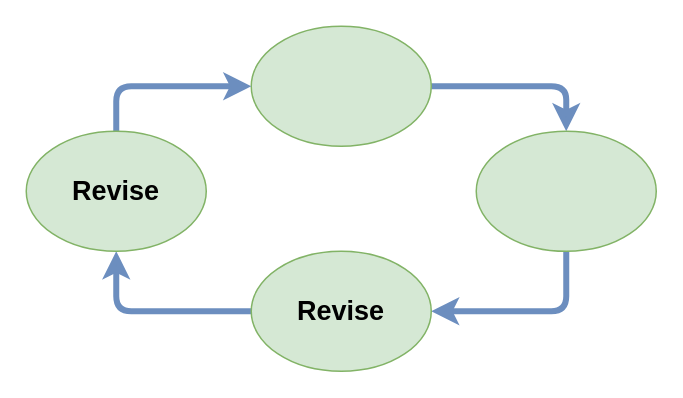
Image size: 683x398. Some labels were removed from this diagram. Here are the shapes that lost their labels. From the top down, the centre of each, then its label:
point (340, 85): Retrieve
point (565, 190): Reuse
